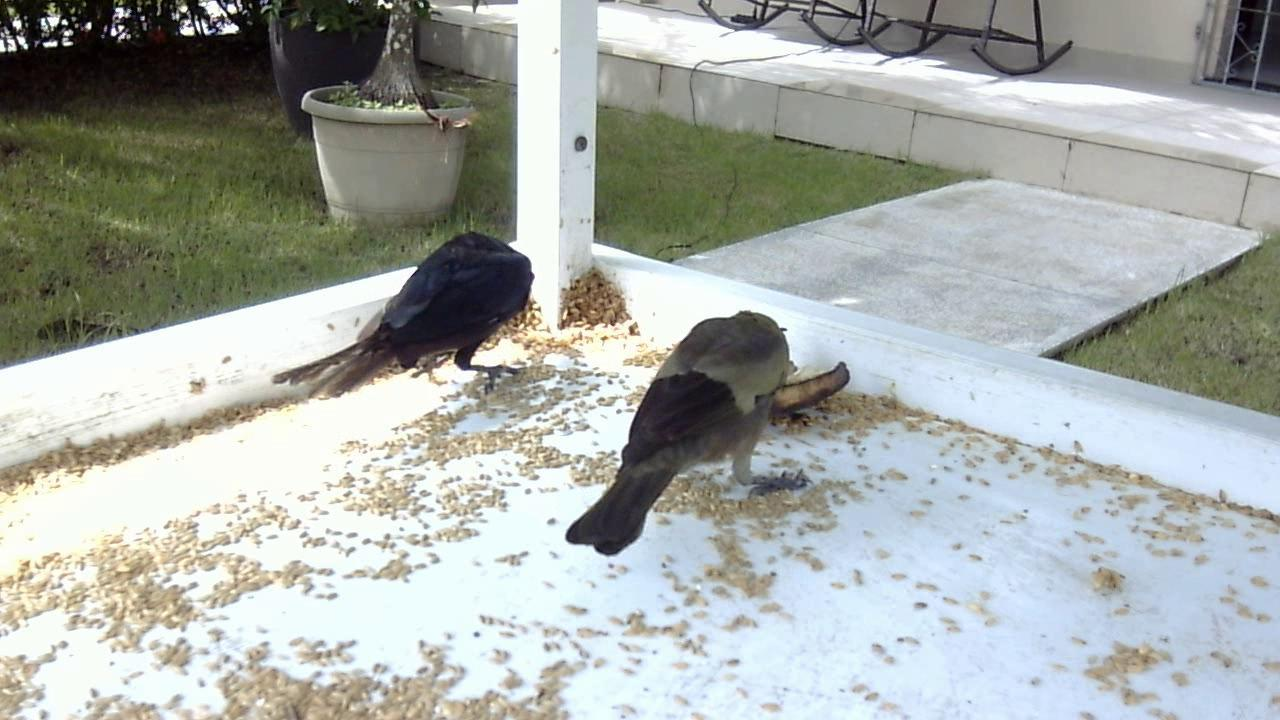chupim: (271, 220, 545, 415)
sanhaco_do_coqueiro: (561, 305, 851, 564)
